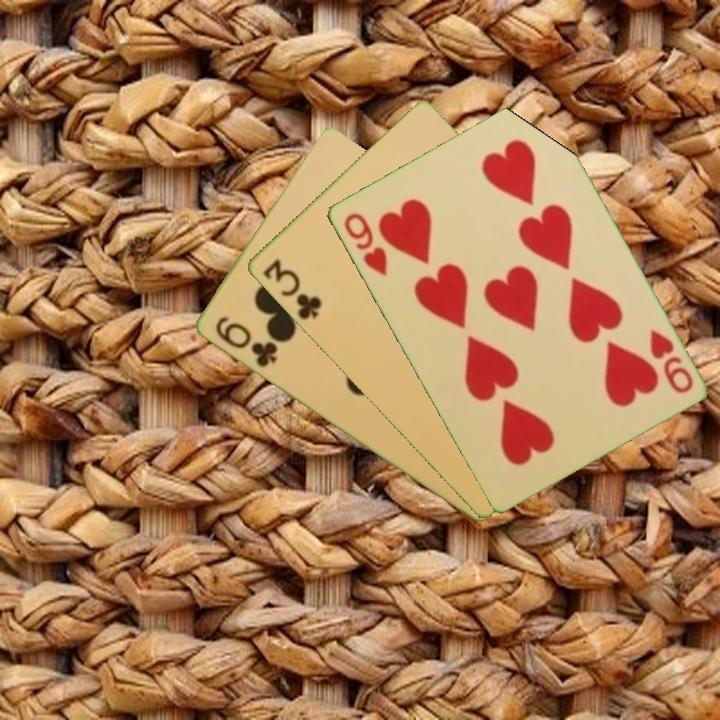3c: (259, 255, 325, 323)
6c: (211, 312, 280, 371)
9h: (645, 325, 696, 397), (339, 209, 390, 279)
